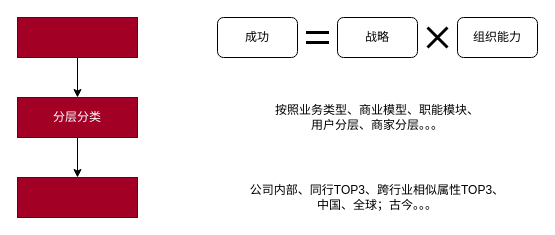
Some shapes in this 555 by 235 pixel diagram are drawn without their labels. Each missing label, with the box of its shape:
对象: (16, 176, 138, 218)
标准: (16, 16, 138, 58)
